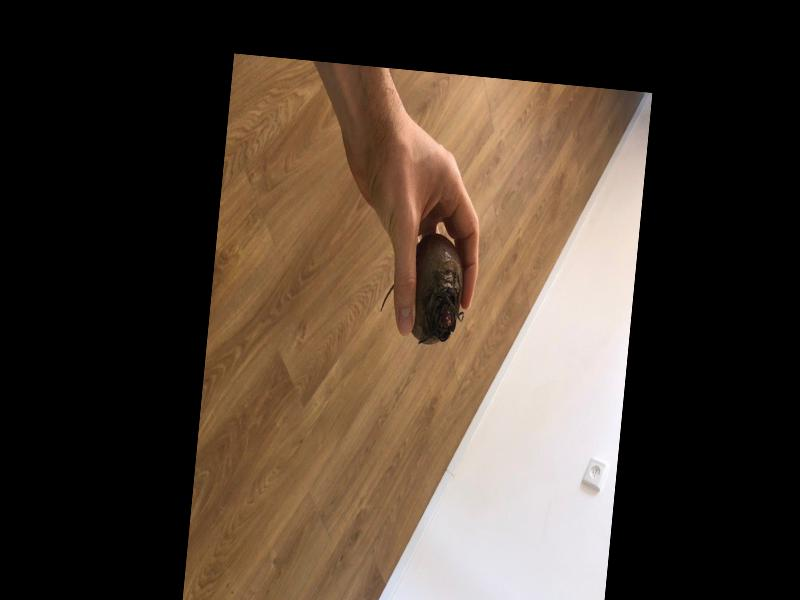Beet: (377, 230, 469, 348)
